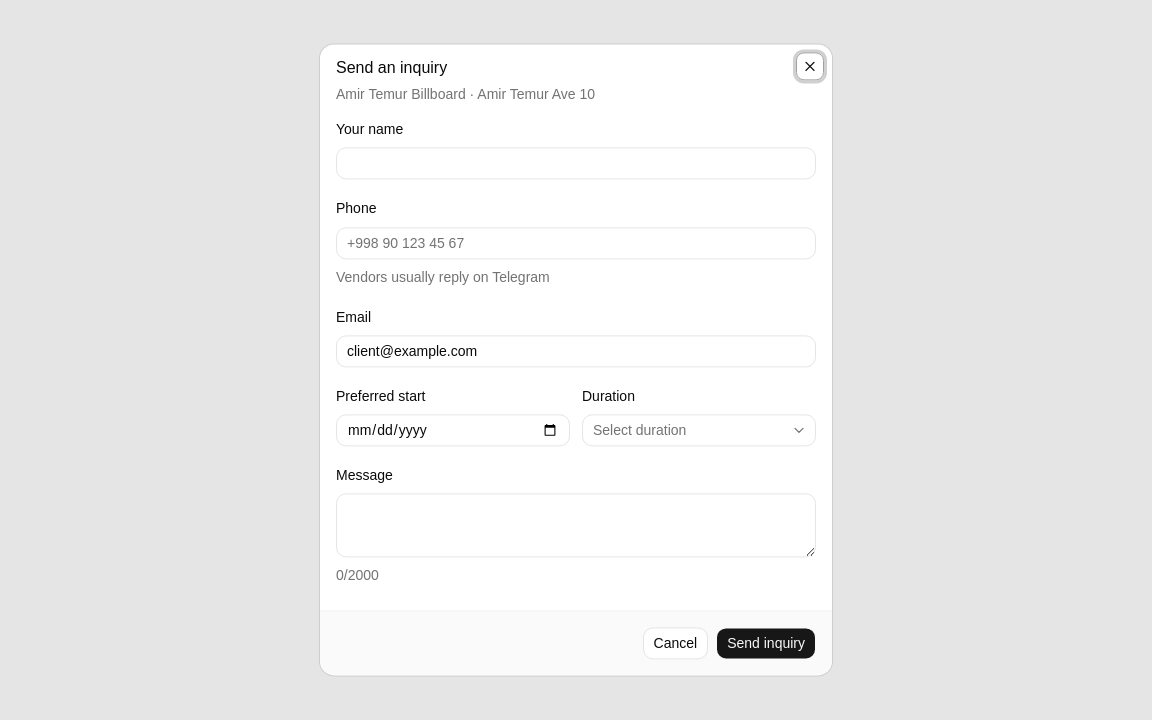
InquiryFormDialog › names the earlier date and disables submit on a duplicate
In the field labelled "Your name": x=576, y=164 x1=336 y1=148 x2=816 y2=180, type "Aziza Karimova"
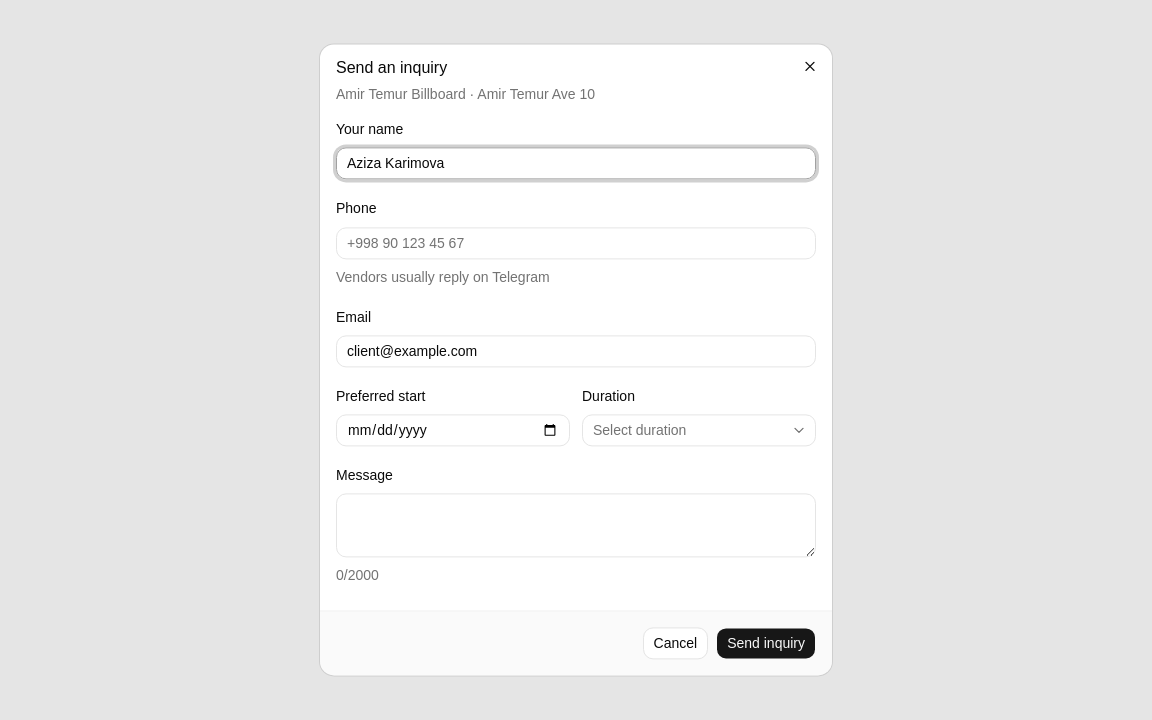
In the field labelled "Phone": x=576, y=243 x1=336 y1=227 x2=816 y2=259, type "+998901234567"
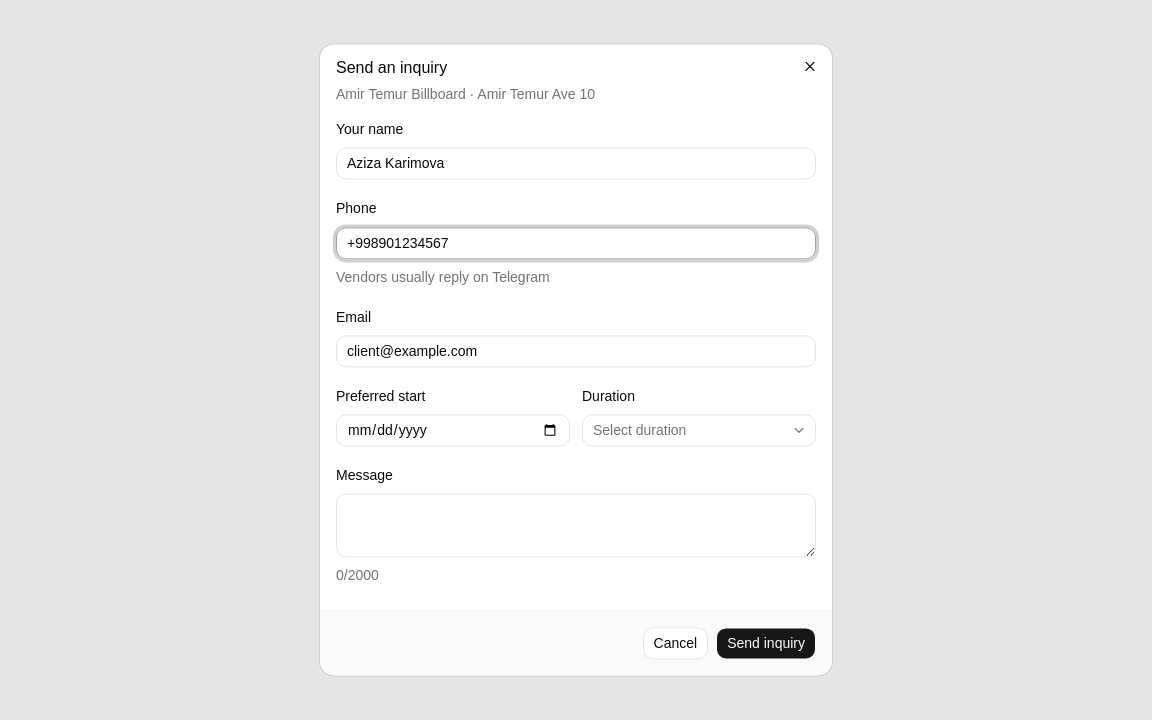
In the text box labelled "Message": x=576, y=526 x1=336 y1=494 x2=816 y2=558, type "We would like a two-month campaign here."
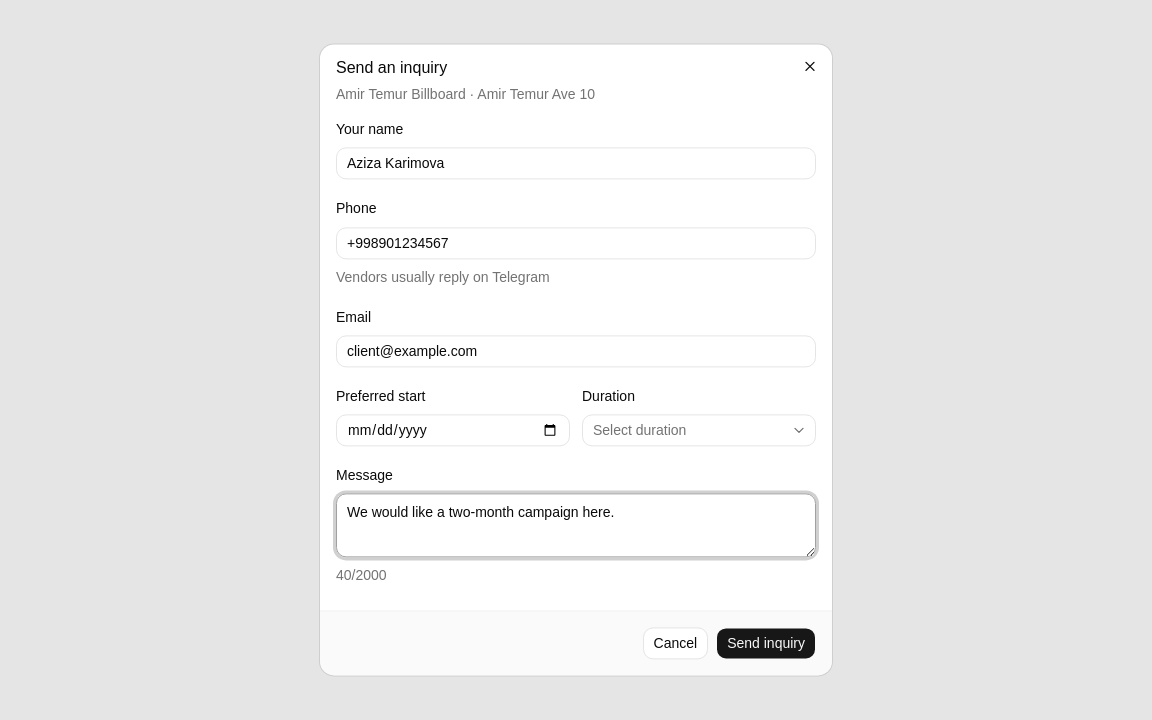
Click the button "Send inquiry": x=766, y=644 x1=716 y1=628 x2=816 y2=660
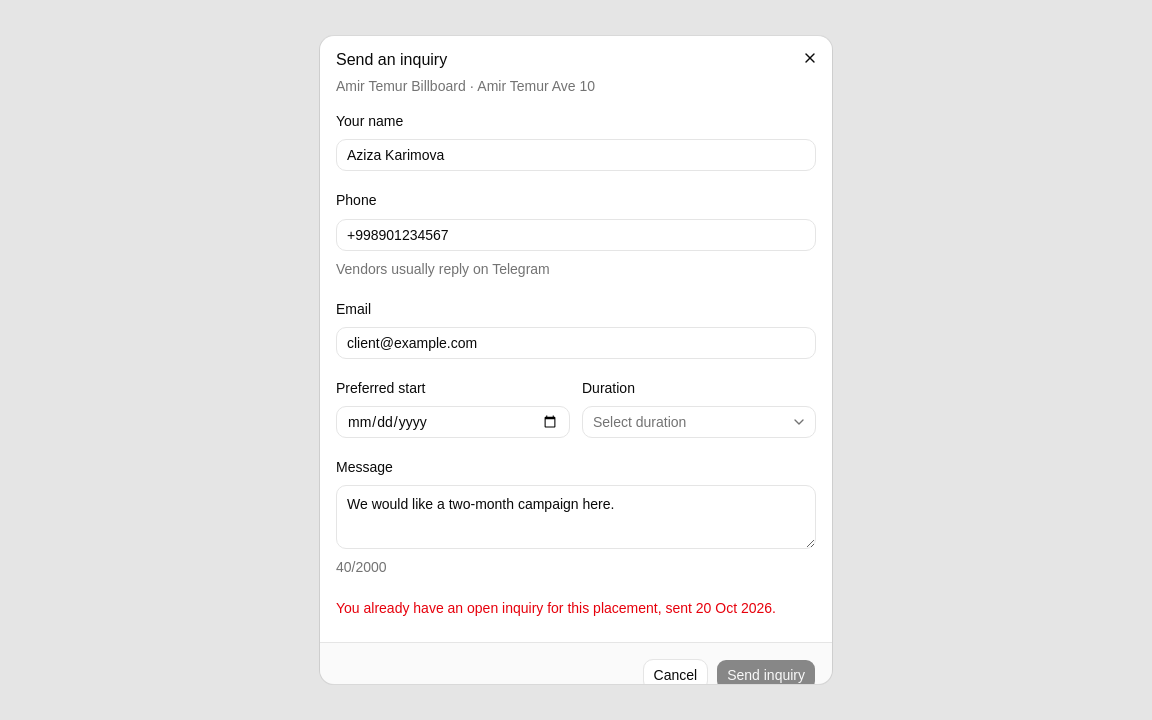
Check: the text "You already have an open inquiry for this placement, sent 20 Oct 2026." is shown, box x1=336 y1=598 x2=816 y2=618
Check: the button "Send inquiry" is disabled, box x1=716 y1=659 x2=816 y2=684
